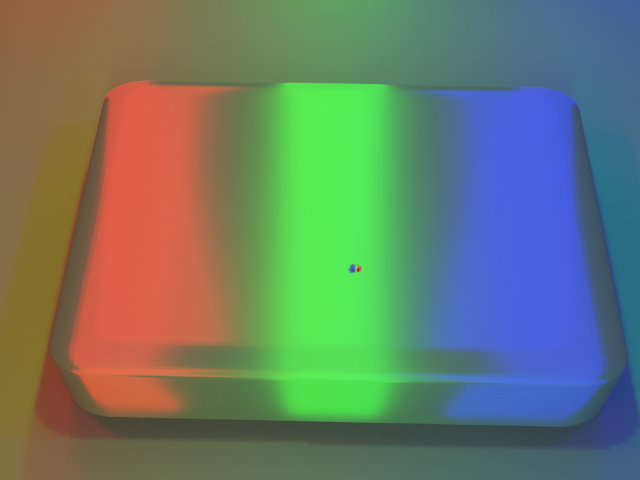dent: (341, 255, 375, 291)
